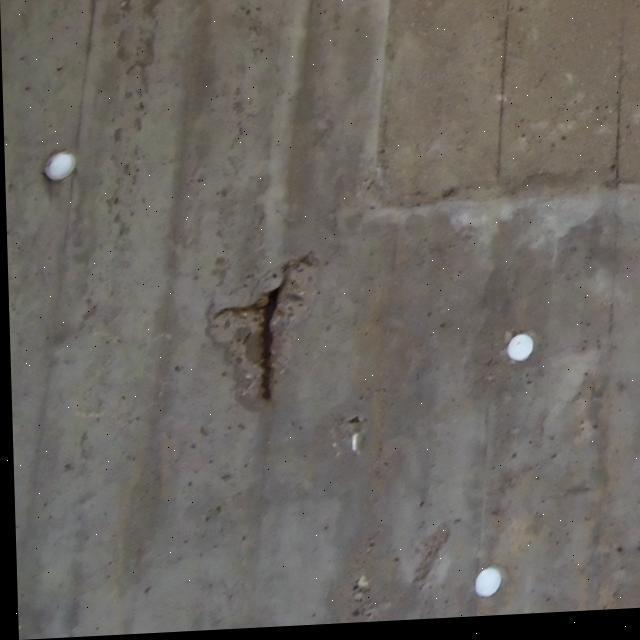D10: (210, 258, 317, 405)
